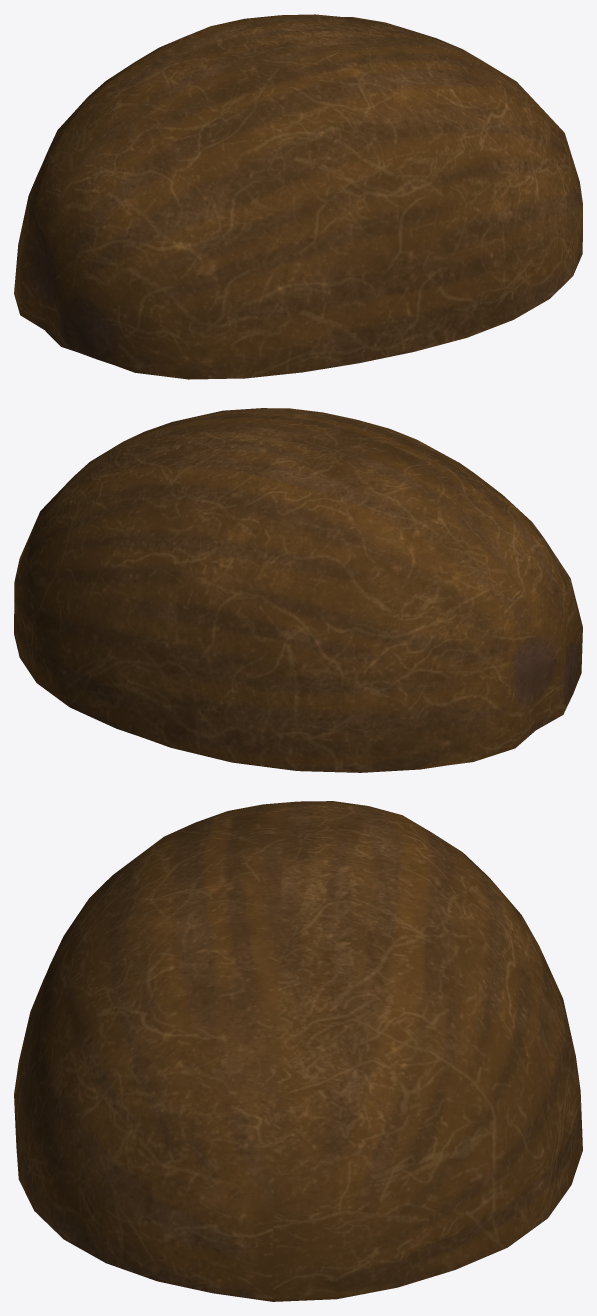
File: coconut half.fbx
3 views of the same model, one above another, from view 1: azimuth 30°, elevation 25°; view 2: azimuth 150°, elevation 25°; view 3: azimuth 270°, elevation 25° (orthographic). The views are drawn at different scales.
Parts seen in each view (by area): view 1: Coconut; view 2: Coconut; view 3: Coconut.
Part boxes in pixels (x1,y1,x2,y2): Coconut: [14, 14, 582, 379]; Coconut: [14, 408, 582, 772]; Coconut: [14, 801, 582, 1301].
Bounding box in the file's own units: 22.37 × 9.59 × 17.1.
